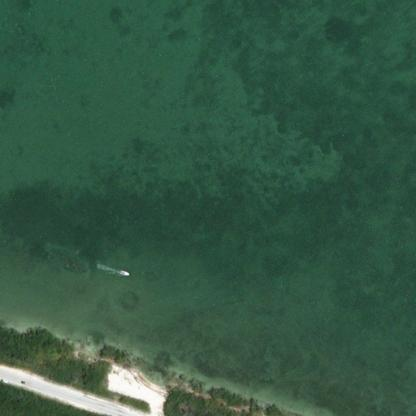ship: (114, 264, 133, 280)
